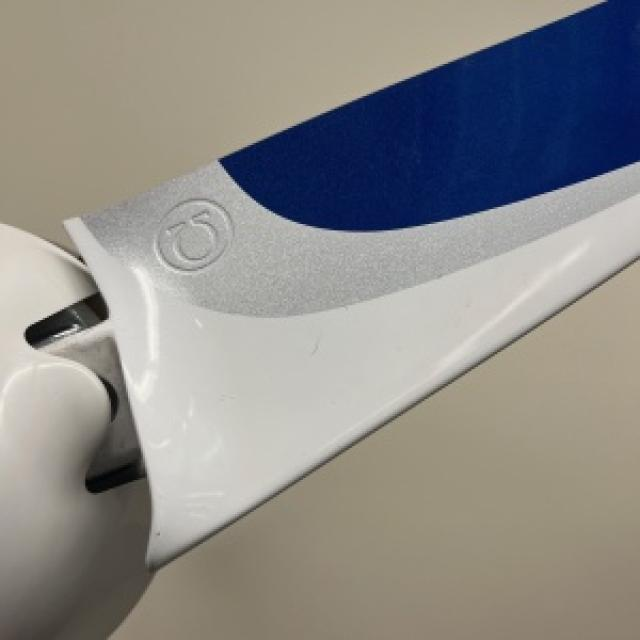healthy: (115, 260, 638, 638)
